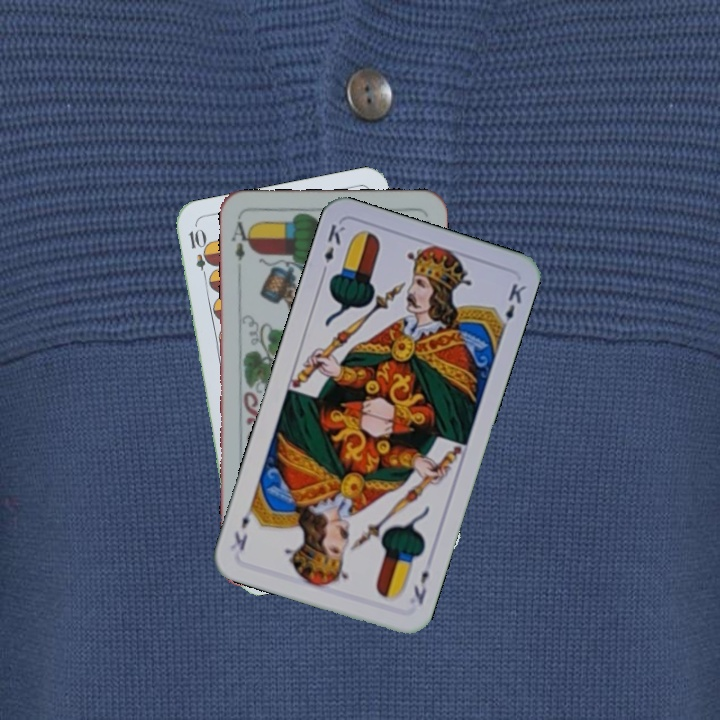E10: (184, 225, 212, 284)
EA: (227, 218, 253, 263)
EK: (317, 220, 348, 278), (409, 566, 432, 608)
